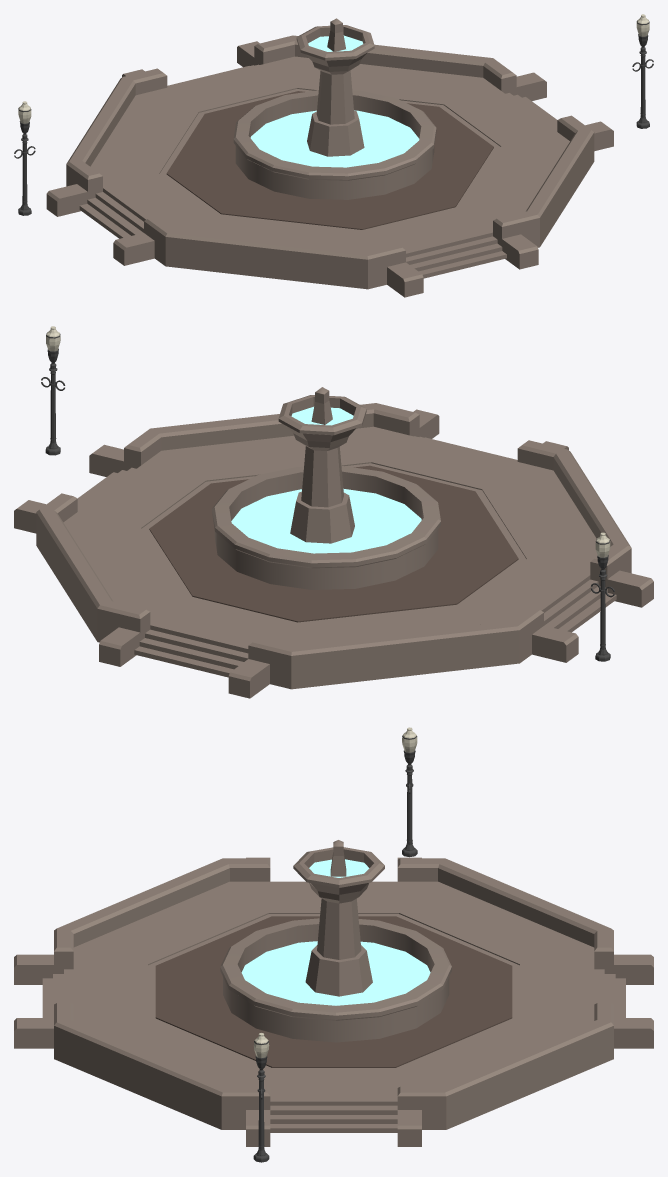
File: fountain_plaza.fbx
3 renders of one model, top to bottom at view 1: azimuth 30°, elevation 25°; view 2: azimuth 150°, elevation 25°; view 3: azimuth 270°, elevation 25°, orthographic. The views are drawn at different scales.
Parts seen in each view (by area): view 1: plaza, pCylinder8, pCylinder10, fountainwater, pCube993 (×2), pCube994, streetlamp_fancy1, streetlamp_fancy, pCube992; view 2: plaza, pCylinder8, pCylinder10, fountainwater, pCube994 (×2), streetlamp_fancy1, streetlamp_fancy, pCube993, pCube992; view 3: plaza, pCylinder8, pCylinder10, fountainwater, pCube993 (×2), pCube994, streetlamp_fancy1, streetlamp_fancy.
Part boxes in pixels (box(x1,y1,x2,y2)): plaza: box(46, 35, 613, 297); pCylinder8: box(233, 90, 436, 199); pCylinder10: box(296, 25, 374, 156); fountainwater: box(250, 110, 419, 167); pCube993 (×2): box(406, 93, 557, 278); pCube994: box(79, 192, 143, 238); streetlamp_fancy1: box(18, 101, 31, 215); streetlamp_fancy: box(636, 14, 649, 128); pCube992: box(327, 18, 345, 51); plaza: box(14, 403, 653, 698); pCylinder8: box(212, 465, 440, 589); pCylinder10: box(278, 395, 366, 543); fountainwater: box(231, 488, 421, 553); pCube994 (×2): box(134, 579, 616, 677); streetlamp_fancy1: box(595, 532, 610, 661); streetlamp_fancy: box(45, 326, 60, 455); pCube993: box(77, 467, 136, 511); pCube992: box(311, 387, 332, 424); plaza: box(14, 857, 653, 1146); pCylinder8: box(220, 918, 451, 1042); pCylinder10: box(293, 847, 384, 996); fountainwater: box(241, 941, 430, 1005); pCube993 (×2): box(42, 969, 397, 1132); pCube994: box(594, 969, 625, 1017); streetlamp_fancy1: box(402, 727, 417, 857); streetlamp_fancy: box(253, 1033, 269, 1162).
Size of the model in its own units: 18.45 by 4.79 by 15.74.
